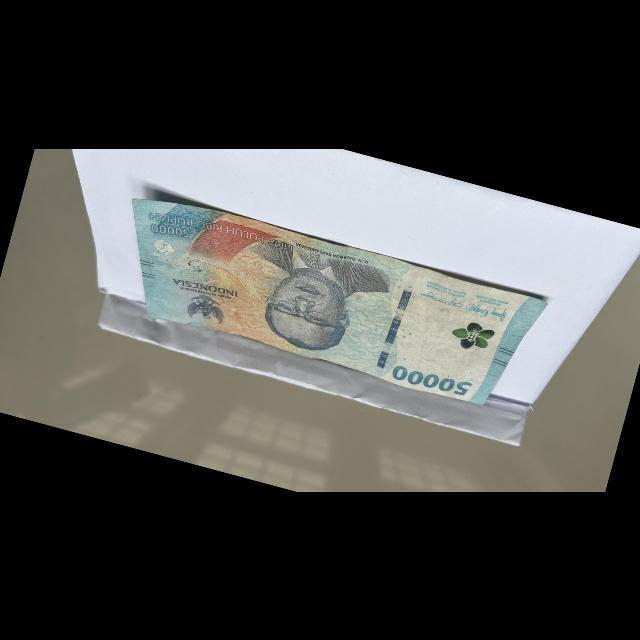Palsu-50k: (96, 184, 552, 420)
Tinta-Palsu-50k: (446, 316, 497, 356)
